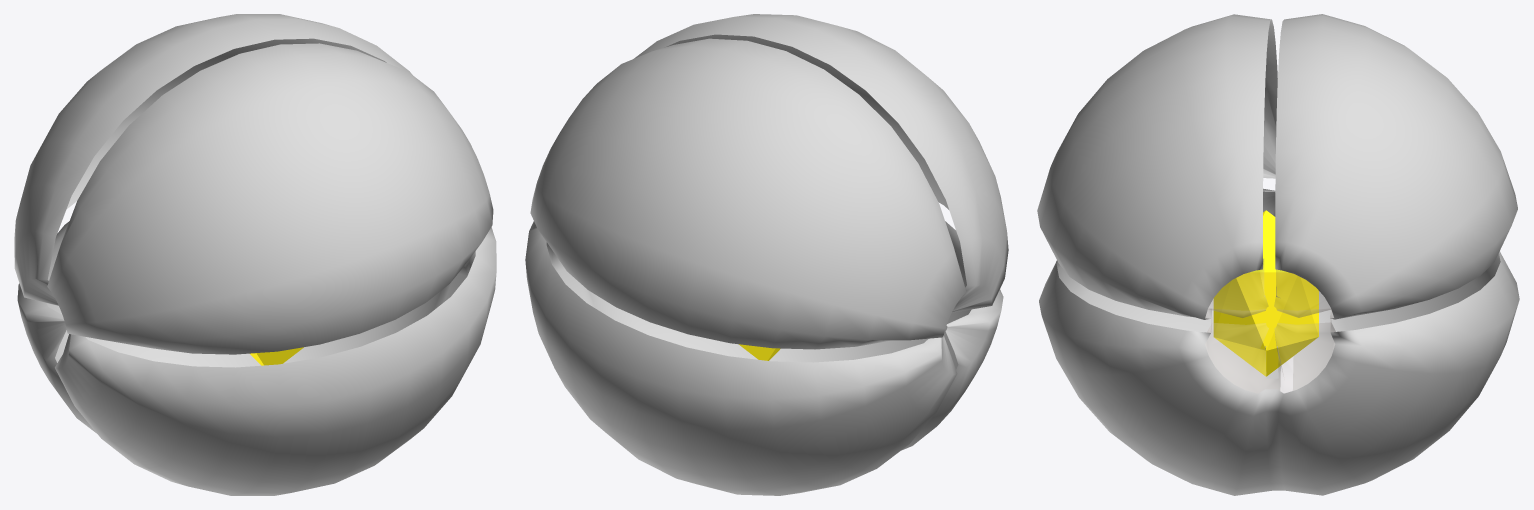
The model's file is molec_compressed.glb.
3 renders of one model, left to right at view 1: azimuth 30°, elevation 25°; view 2: azimuth 150°, elevation 25°; view 3: azimuth 270°, elevation 25°, orthographic.
Parts seen in each view (by area): view 1: Sphere.001, Icosphere.001; view 2: Sphere.001; view 3: Sphere.001, Icosphere.001.
Part boxes in pixels (x1,y1,x2,y2): Sphere.001: (14,14,496,495); Icosphere.001: (250,347,303,365); Sphere.001: (525,14,1008,495); Sphere.001: (1037,14,1519,495); Icosphere.001: (1213,210,1318,376).
Size of the model in its own units: 1.22 by 1.21 by 1.21.
